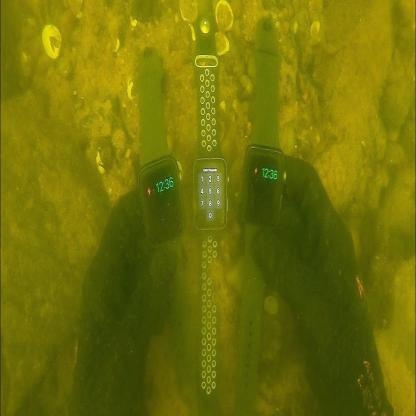electronics: (135, 45, 208, 406), (231, 14, 289, 416), (193, 12, 230, 409)
